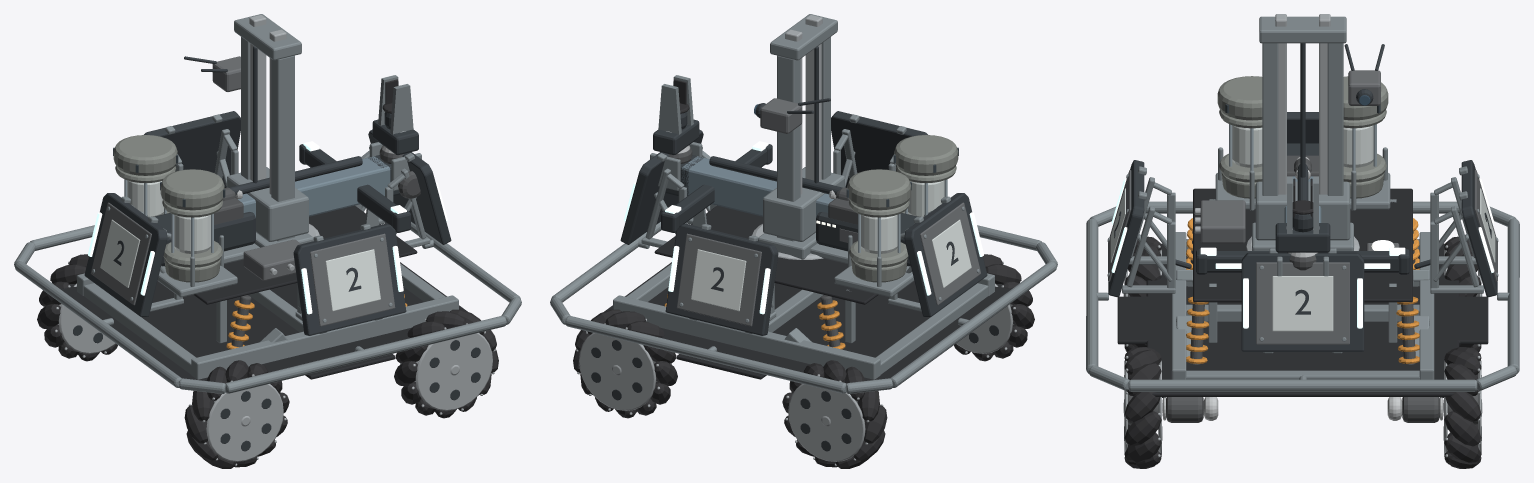
Rendered from robot-2-spec2026v4.glb.
The picture shows the model from 3 angles, left to right: view 1: azimuth 30°, elevation 25°; view 2: azimuth 150°, elevation 25°; view 3: azimuth 270°, elevation 25°; orthographic projection. The views are drawn at different scales.
Visible parts, largest first — view 1: Chassis_RobotMatteAluminum, Chassis_CarbonPlate, ArmSlew_RobotMatteAluminum, Wheel_0_MachinedAlloy, Wheel_2_MachinedAlloy, CarriedUnit_0_ProtectiveMetal, ArmorHitFace.003, ArmorModuleBody.003, BoomOuter, Chassis_RobotMatteGraphite, Wheel_0_PolyurethaneRoller, Wheel_2_PolyurethaneRoller (+27 smaller); view 2: Chassis_RobotMatteAluminum, Chassis_CarbonPlate, ArmSlew_RobotMatteAluminum, Wheel_1_MachinedAlloy, Wheel_3_MachinedAlloy, CarriedUnit_1_ProtectiveMetal, ArmorHitFace.001, ArmorModuleBody.001, BoomOuter, Wheel_1_PolyurethaneRoller, Wheel_3_PolyurethaneRoller, Chassis_RobotMatteGraphite (+26 smaller); view 3: Chassis_CarbonPlate, Chassis_RobotMatteAluminum, ArmSlew_RobotMatteAluminum, ArmorHitFace, ArmorModuleBody, Wheel_2_PolyurethaneRoller, Wheel_3_PolyurethaneRoller, ArmorSticker, CarriedUnit_0_ProtectiveMetal, ArmMastStage_MachinedAlloy, Chassis_MotorHousing, ArmorMount_1_RobotMatteAluminum (+26 smaller).
Part boxes in pixels (left/top/right/bottom): Chassis_RobotMatteAluminum: left=14, top=209, right=521, bottom=393; Chassis_CarbonPlate: left=58, top=205, right=467, bottom=380; ArmSlew_RobotMatteAluminum: left=234, top=14, right=313, bottom=247; Wheel_0_MachinedAlloy: left=188, top=369, right=286, bottom=466; Wheel_2_MachinedAlloy: left=400, top=318, right=495, bottom=414; CarriedUnit_0_ProtectiveMetal: left=160, top=169, right=224, bottom=282; ArmorHitFace.003: left=310, top=233, right=395, bottom=326; ArmorModuleBody.003: left=293, top=223, right=406, bottom=335; BoomOuter: left=238, top=156, right=390, bottom=217; Chassis_RobotMatteGraphite: left=155, top=144, right=410, bottom=266; Wheel_0_PolyurethaneRoller: left=184, top=360, right=289, bottom=468; Wheel_2_PolyurethaneRoller: left=394, top=309, right=498, bottom=418; Chassis_RobotMatteAluminum: left=550, top=209, right=1057, bottom=393; Chassis_CarbonPlate: left=604, top=205, right=1013, bottom=380; ArmSlew_RobotMatteAluminum: left=758, top=14, right=837, bottom=259; Wheel_1_MachinedAlloy: left=785, top=369, right=883, bottom=466; Wheel_3_MachinedAlloy: left=576, top=318, right=671, bottom=414; CarriedUnit_1_ProtectiveMetal: left=847, top=169, right=911, bottom=282; ArmorHitFace.001: left=676, top=233, right=761, bottom=326; ArmorModuleBody.001: left=665, top=223, right=778, bottom=335; BoomOuter: left=681, top=156, right=833, bottom=217; Wheel_1_PolyurethaneRoller: left=782, top=360, right=887, bottom=468; Wheel_3_PolyurethaneRoller: left=573, top=309, right=677, bottom=418; Chassis_RobotMatteGraphite: left=661, top=144, right=916, bottom=266; Chassis_CarbonPlate: left=1117, top=188, right=1488, bottom=396; Chassis_RobotMatteAluminum: left=1086, top=147, right=1519, bottom=391; ArmSlew_RobotMatteAluminum: left=1252, top=16, right=1353, bottom=250; ArmorHitFace: left=1256, top=262, right=1349, bottom=344; ArmorModuleBody: left=1241, top=252, right=1364, bottom=351; Wheel_2_PolyurethaneRoller: left=1124, top=347, right=1161, bottom=468; Wheel_3_PolyurethaneRoller: left=1444, top=347, right=1481, bottom=468; ArmorSticker: left=1272, top=276, right=1333, bottom=331; CarriedUnit_0_ProtectiveMetal: left=1217, top=76, right=1262, bottom=198; ArmMastStage_MachinedAlloy: left=1275, top=14, right=1330, bottom=194; Chassis_MotorHousing: left=1166, top=231, right=1439, bottom=422; ArmorMount_1_RobotMatteAluminum: left=1430, top=177, right=1483, bottom=293.
Size of the model in its own units: 0.5969 by 0.595 by 0.5969.
